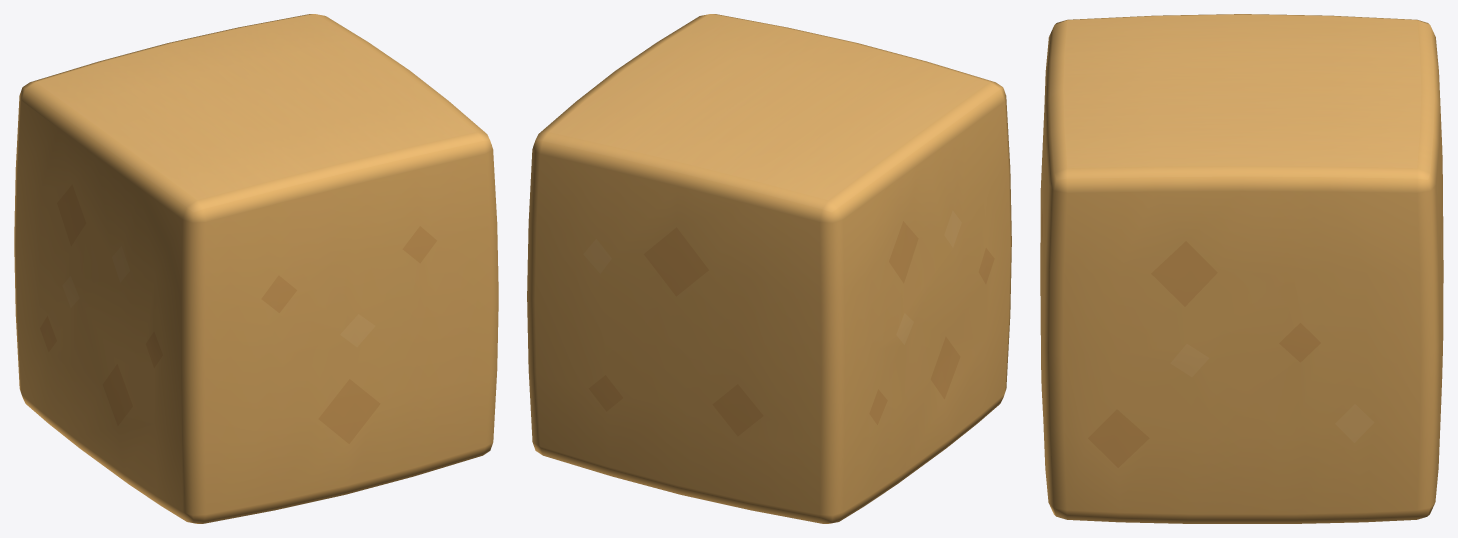
File: block_sand_2.fbx
3 views of the same model, side by side, from view 1: azimuth 30°, elevation 25°; view 2: azimuth 150°, elevation 25°; view 3: azimuth 270°, elevation 25° (orthographic). The views are drawn at different scales.
Parts seen in each view (by area): view 1: block_sand1_2_LOD0; view 2: block_sand1_2_LOD0; view 3: block_sand1_2_LOD0.
Boxes of the visible parts, x1,y1,x2,y2 form: block_sand1_2_LOD0: [14, 14, 498, 523]; block_sand1_2_LOD0: [527, 14, 1011, 523]; block_sand1_2_LOD0: [1040, 14, 1443, 523].
Size of what is drawn, in the model's own units: 108 by 109 by 109.
